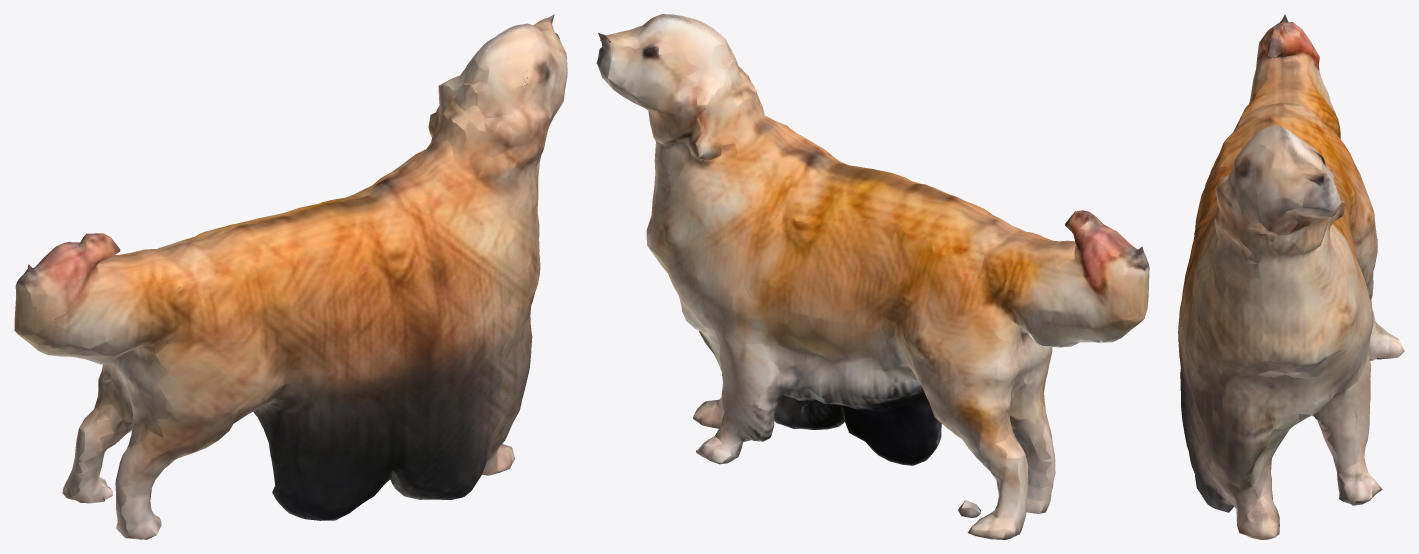
The model's file is dog_00010.glb.
3 renders of one model, left to right at view 1: azimuth 30°, elevation 25°; view 2: azimuth 150°, elevation 25°; view 3: azimuth 270°, elevation 25°, orthographic. The views are drawn at different scales.
Parts seen in each view (by area): view 1: world; view 2: world; view 3: world.
Part boxes in pixels (left/top/right/bottom): world: left=14, top=14, right=567, bottom=539; world: left=596, top=14, right=1149, bottom=539; world: left=1178, top=14, right=1404, bottom=539.
Bounding box in the file's own units: 0.937 × 0.6858 × 0.3336.
1 material, 1 textured.
